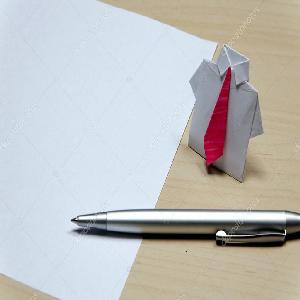pen: (68, 208, 300, 250)
